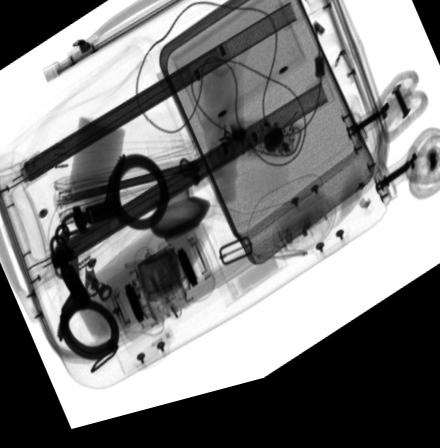HandCuffs: (46, 154, 171, 366)
